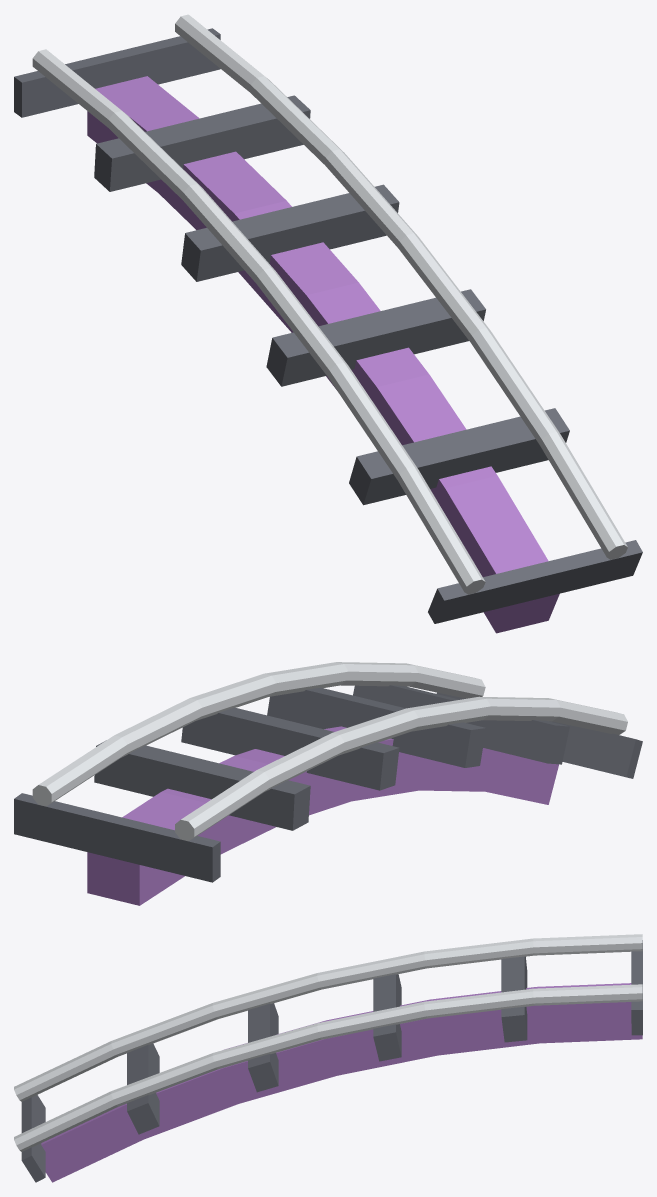
File: theme-park-rides-and-coasters-theme-park-rides-and-coa-43bd3f8a__28624.glb
3 views of the same model, one above another, from view 1: azimuth 30°, elevation 25°; view 2: azimuth 150°, elevation 25°; view 3: azimuth 270°, elevation 25° (orthographic). The views are drawn at different scales.
Visible parts, largest first — view 1: theme-park-rides-and-coasters-track-transition-down; view 2: theme-park-rides-and-coasters-track-transition-down; view 3: theme-park-rides-and-coasters-track-transition-down.
Part boxes in pixels (<box>): theme-park-rides-and-coasters-track-transition-down: <box>14,14,642,633</box>; theme-park-rides-and-coasters-track-transition-down: <box>14,662,642,905</box>; theme-park-rides-and-coasters-track-transition-down: <box>14,934,642,1182</box>.
Size of the model in its own units: 1.06 by 1.5 by 4.03.
